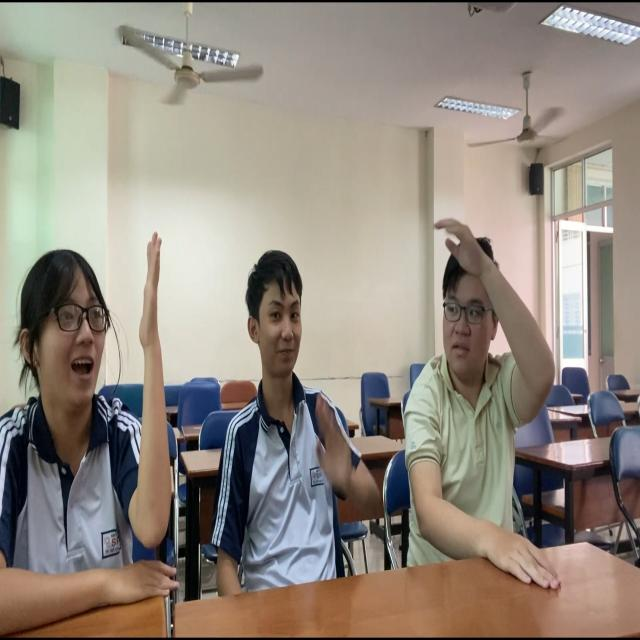raise_hand: (1, 169, 197, 640), (403, 213, 567, 603)
